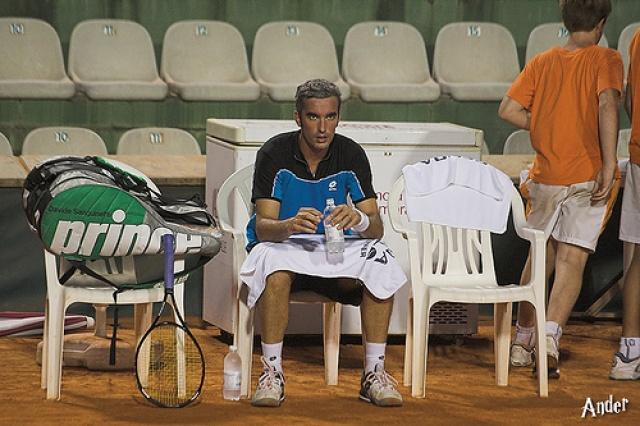Kursi: (386, 155, 549, 400)
